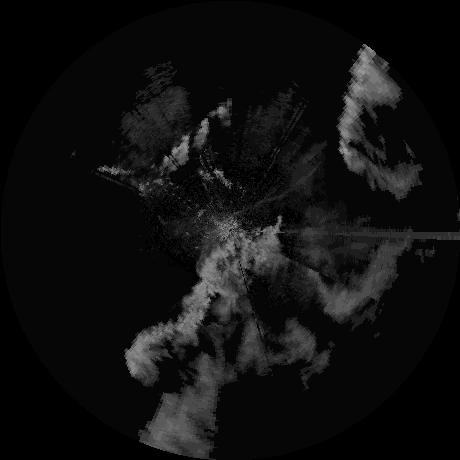frontgust: (234, 184, 305, 218)
